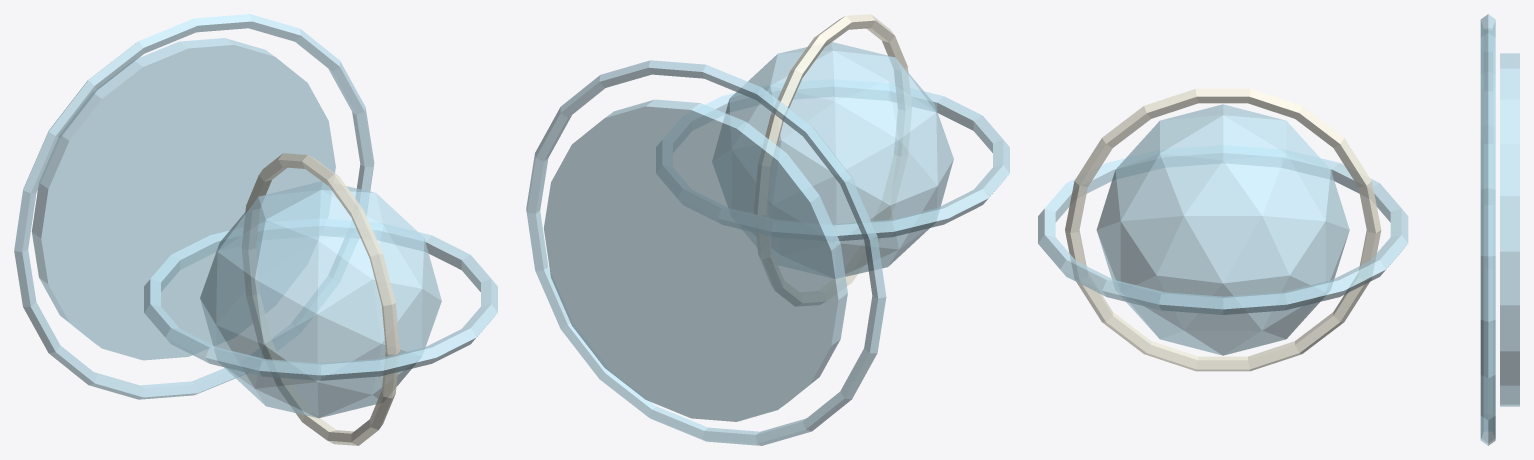
Rendered from 05_ice_wisp_summon.glb.
The picture shows the model from 3 angles, left to right: view 1: azimuth 30°, elevation 25°; view 2: azimuth 150°, elevation 25°; view 3: azimuth 270°, elevation 25°; orthographic projection. The views are drawn at different scales.
Visible parts, largest first — view 1: base_disc, floating_core, base_ring, orbit_ring_x, orbit_ring_y; view 2: base_disc, floating_core, base_ring, orbit_ring_x, orbit_ring_y; view 3: floating_core, orbit_ring_x, orbit_ring_y, base_disc, base_ring.
Part boxes in pixels (x1,y1,x2,y2): base_disc: (31,38,335,360); floating_core: (200,181,441,418); base_ring: (14,14,374,399); orbit_ring_x: (144,219,497,380); orbit_ring_y: (242,153,400,445); base_disc: (543,99,847,421); floating_core: (712,42,953,278); base_ring: (526,60,886,445); orbit_ring_x: (656,79,1009,240); orbit_ring_y: (754,14,911,306); floating_core: (1096,104,1349,355); orbit_ring_x: (1038,145,1408,314); orbit_ring_y: (1065,88,1381,371); base_disc: (1500,53,1519,406); base_ring: (1480,14,1495,445).
Size of the model in its own units: 1.1 by 1.1 by 1.22.
